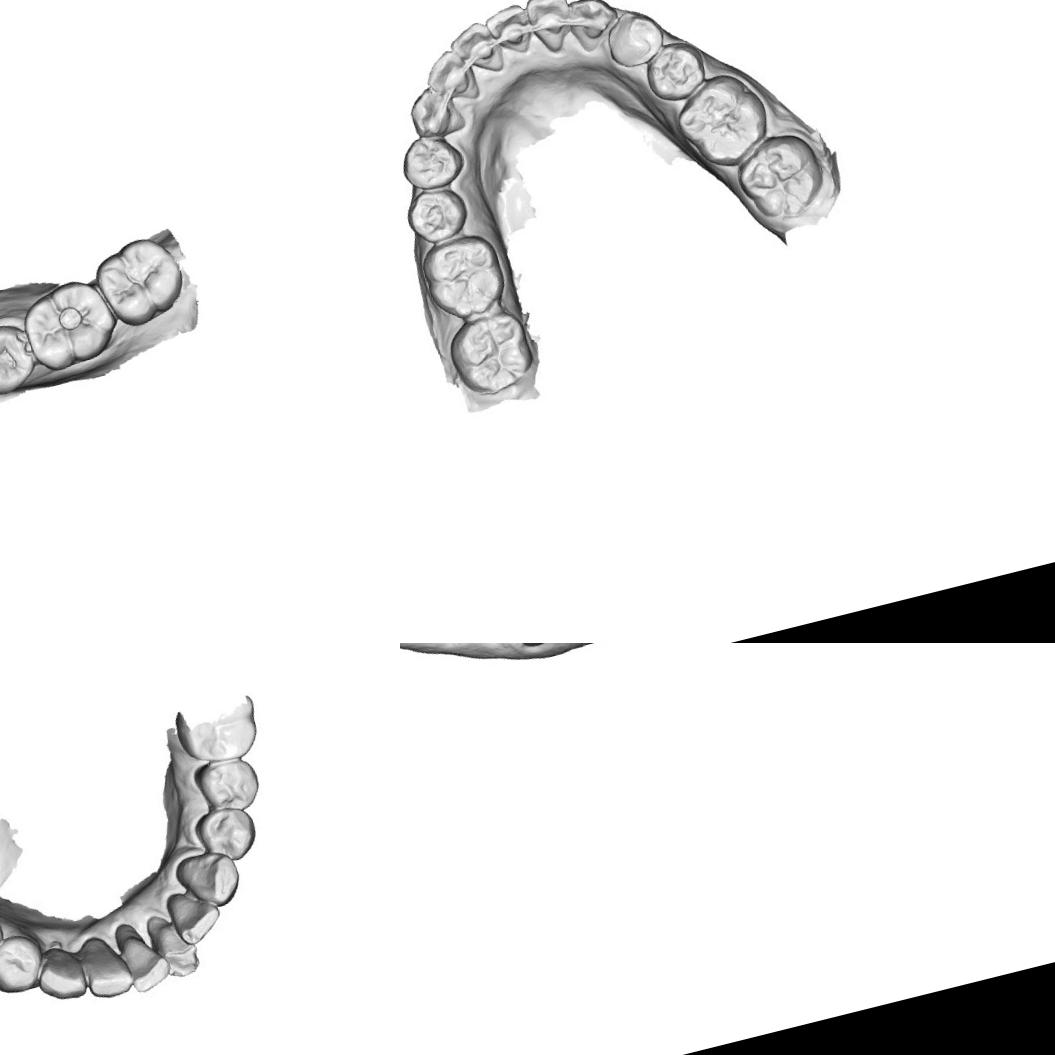canine: (172, 841, 247, 912), (28, 938, 92, 1012), (402, 80, 467, 142), (563, 0, 623, 56)
incisor: (108, 913, 164, 999), (158, 880, 225, 951), (77, 927, 137, 1002), (146, 907, 203, 984), (444, 15, 507, 82), (416, 44, 480, 108), (479, 0, 536, 62), (520, 0, 579, 59)
molar: (665, 64, 778, 178), (16, 272, 121, 376), (727, 125, 830, 228), (89, 228, 190, 332), (441, 304, 540, 404), (416, 228, 514, 326)
premolar: (186, 748, 266, 820), (637, 34, 712, 108), (597, 2, 670, 74), (190, 800, 264, 870), (400, 181, 473, 249), (400, 126, 468, 194), (0, 926, 47, 1000), (0, 320, 37, 398)
